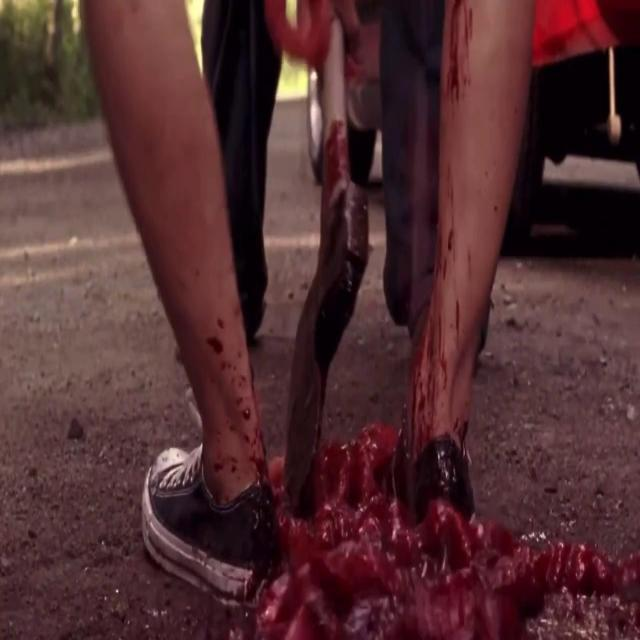flood: (411, 216, 470, 453), (208, 294, 272, 492)
